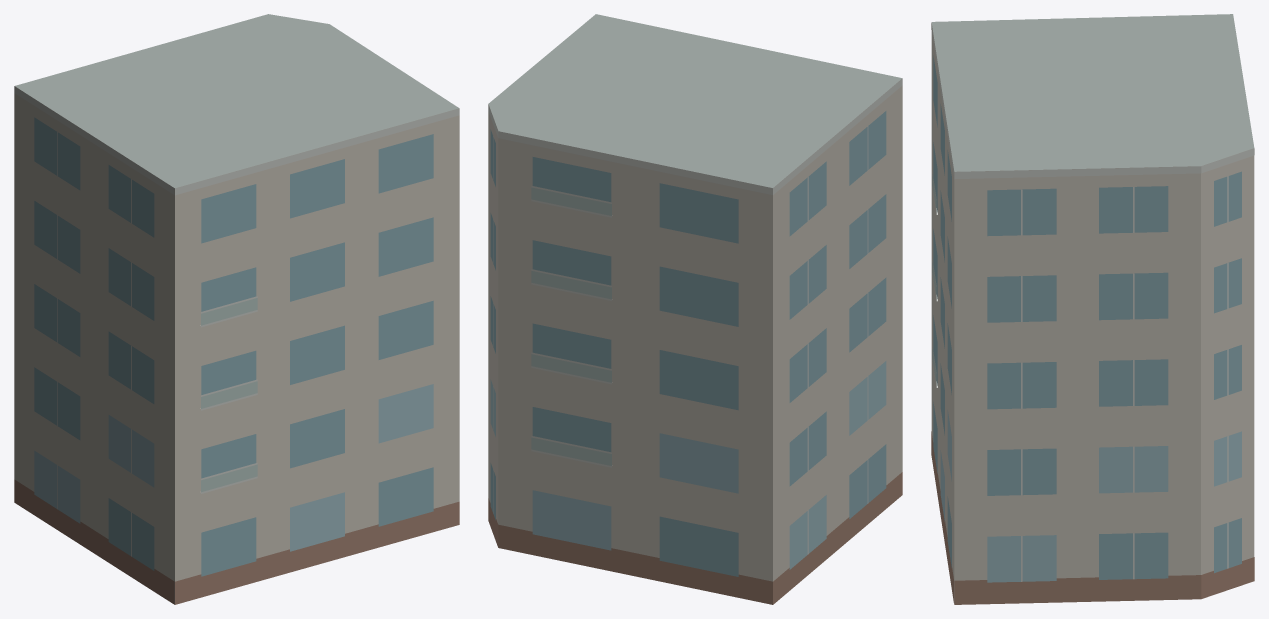
Rendered from survey-upis-32735347.glb.
3 views of the same model, side by side, from view 1: azimuth 30°, elevation 25°; view 2: azimuth 150°, elevation 25°; view 3: azimuth 270°, elevation 25° (orthographic). The views are drawn at different scales.
Parts seen in each view (by area): view 1: survey-upis-32735347.tmp; view 2: survey-upis-32735347.tmp; view 3: survey-upis-32735347.tmp.
Boxes of the visible parts, x1,y1,x2,y2 form: survey-upis-32735347.tmp: [14, 14, 459, 604]; survey-upis-32735347.tmp: [488, 14, 902, 604]; survey-upis-32735347.tmp: [931, 14, 1254, 604].
Size of the model in its own units: 11.27 by 14.4 by 9.74.
